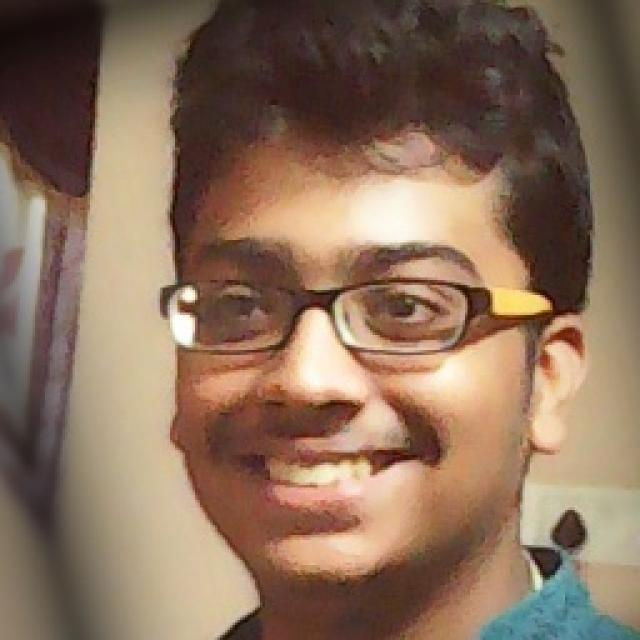glasses: (147, 257, 560, 363)
